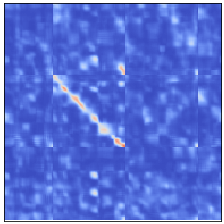action_path: (50, 75, 125, 149)
